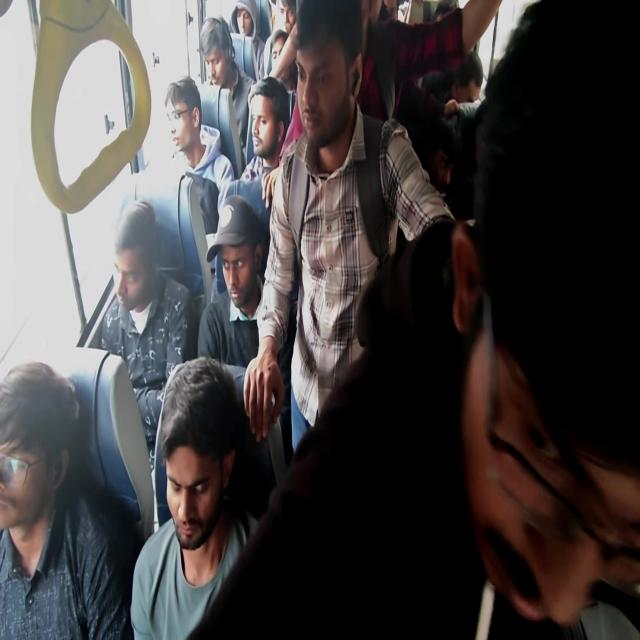person: (478, 12, 640, 640), (0, 413, 114, 594), (160, 407, 274, 578), (204, 249, 264, 348), (108, 215, 162, 315), (244, 103, 327, 164), (308, 22, 342, 138), (202, 29, 243, 102), (167, 85, 201, 148), (447, 55, 481, 106), (422, 8, 456, 37), (232, 12, 262, 43), (268, 32, 289, 62), (280, 0, 294, 16)
